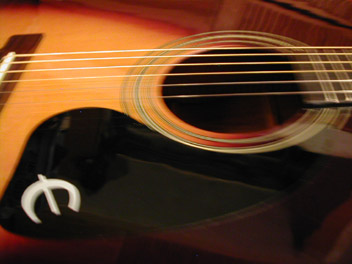guitar: (1, 1, 352, 264)
